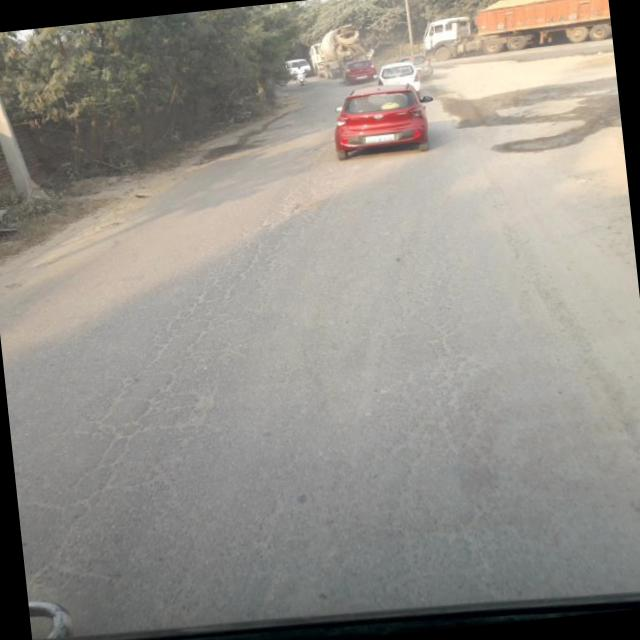crack: (0, 152, 592, 611)
